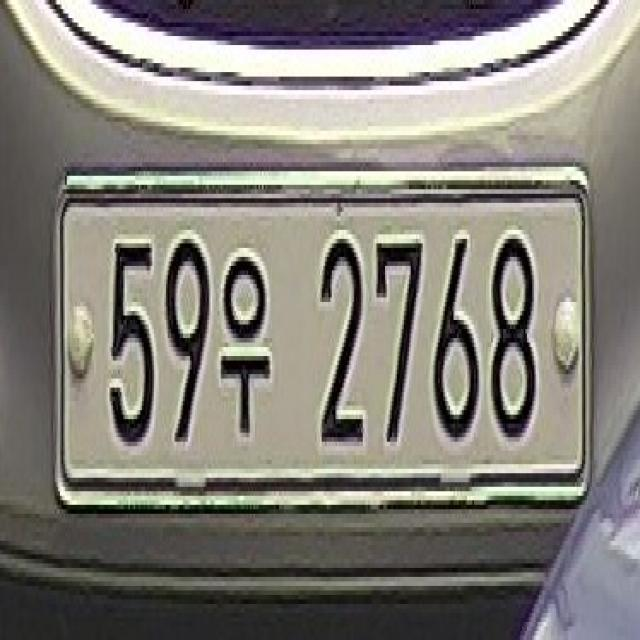2: (314, 229, 368, 451)
5: (105, 219, 158, 457)
6: (429, 222, 482, 450)
7: (372, 224, 426, 456)
8: (485, 224, 540, 452)
9: (161, 219, 213, 453)
license_plate: (53, 138, 600, 536)
u: (216, 224, 276, 452)
